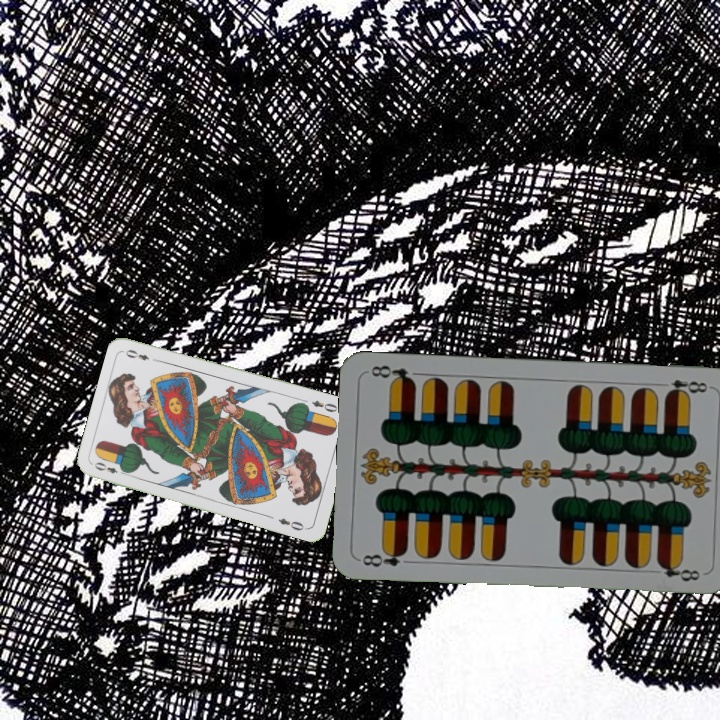E8: (359, 545, 410, 570), (662, 375, 713, 399)
EO: (90, 458, 130, 478), (308, 396, 343, 415)
